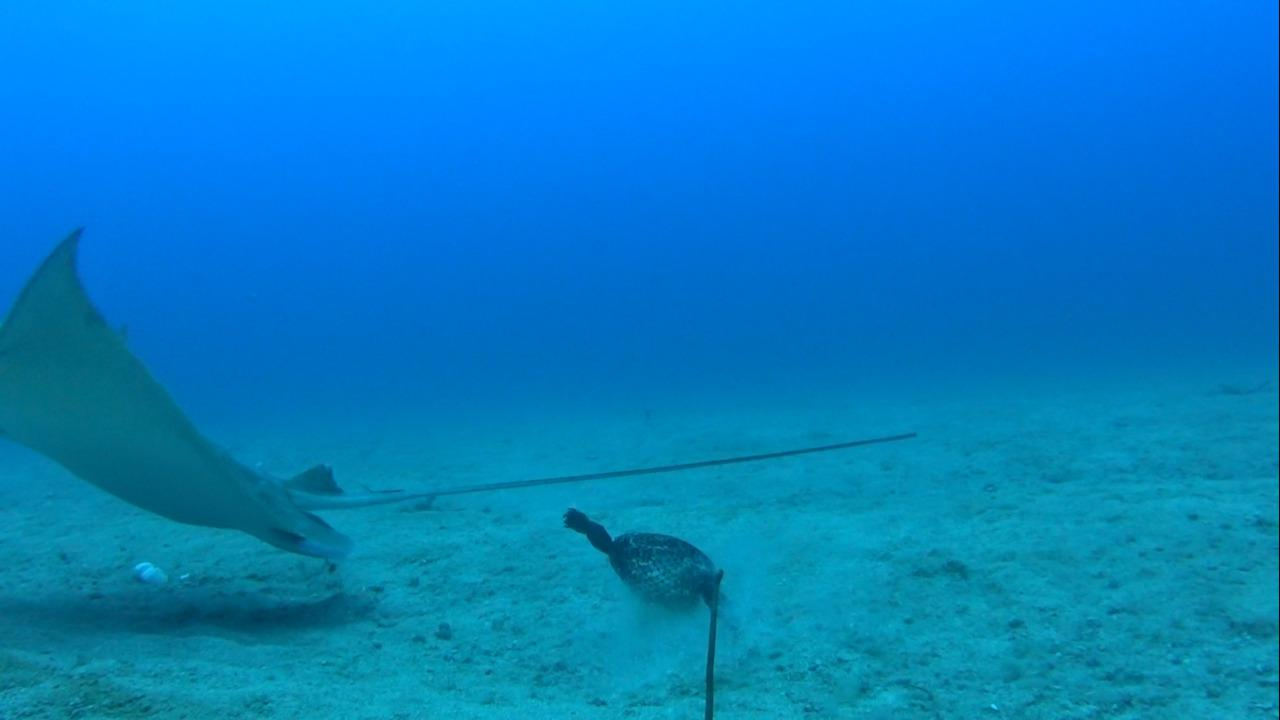myliobatis: (3, 221, 921, 551)
